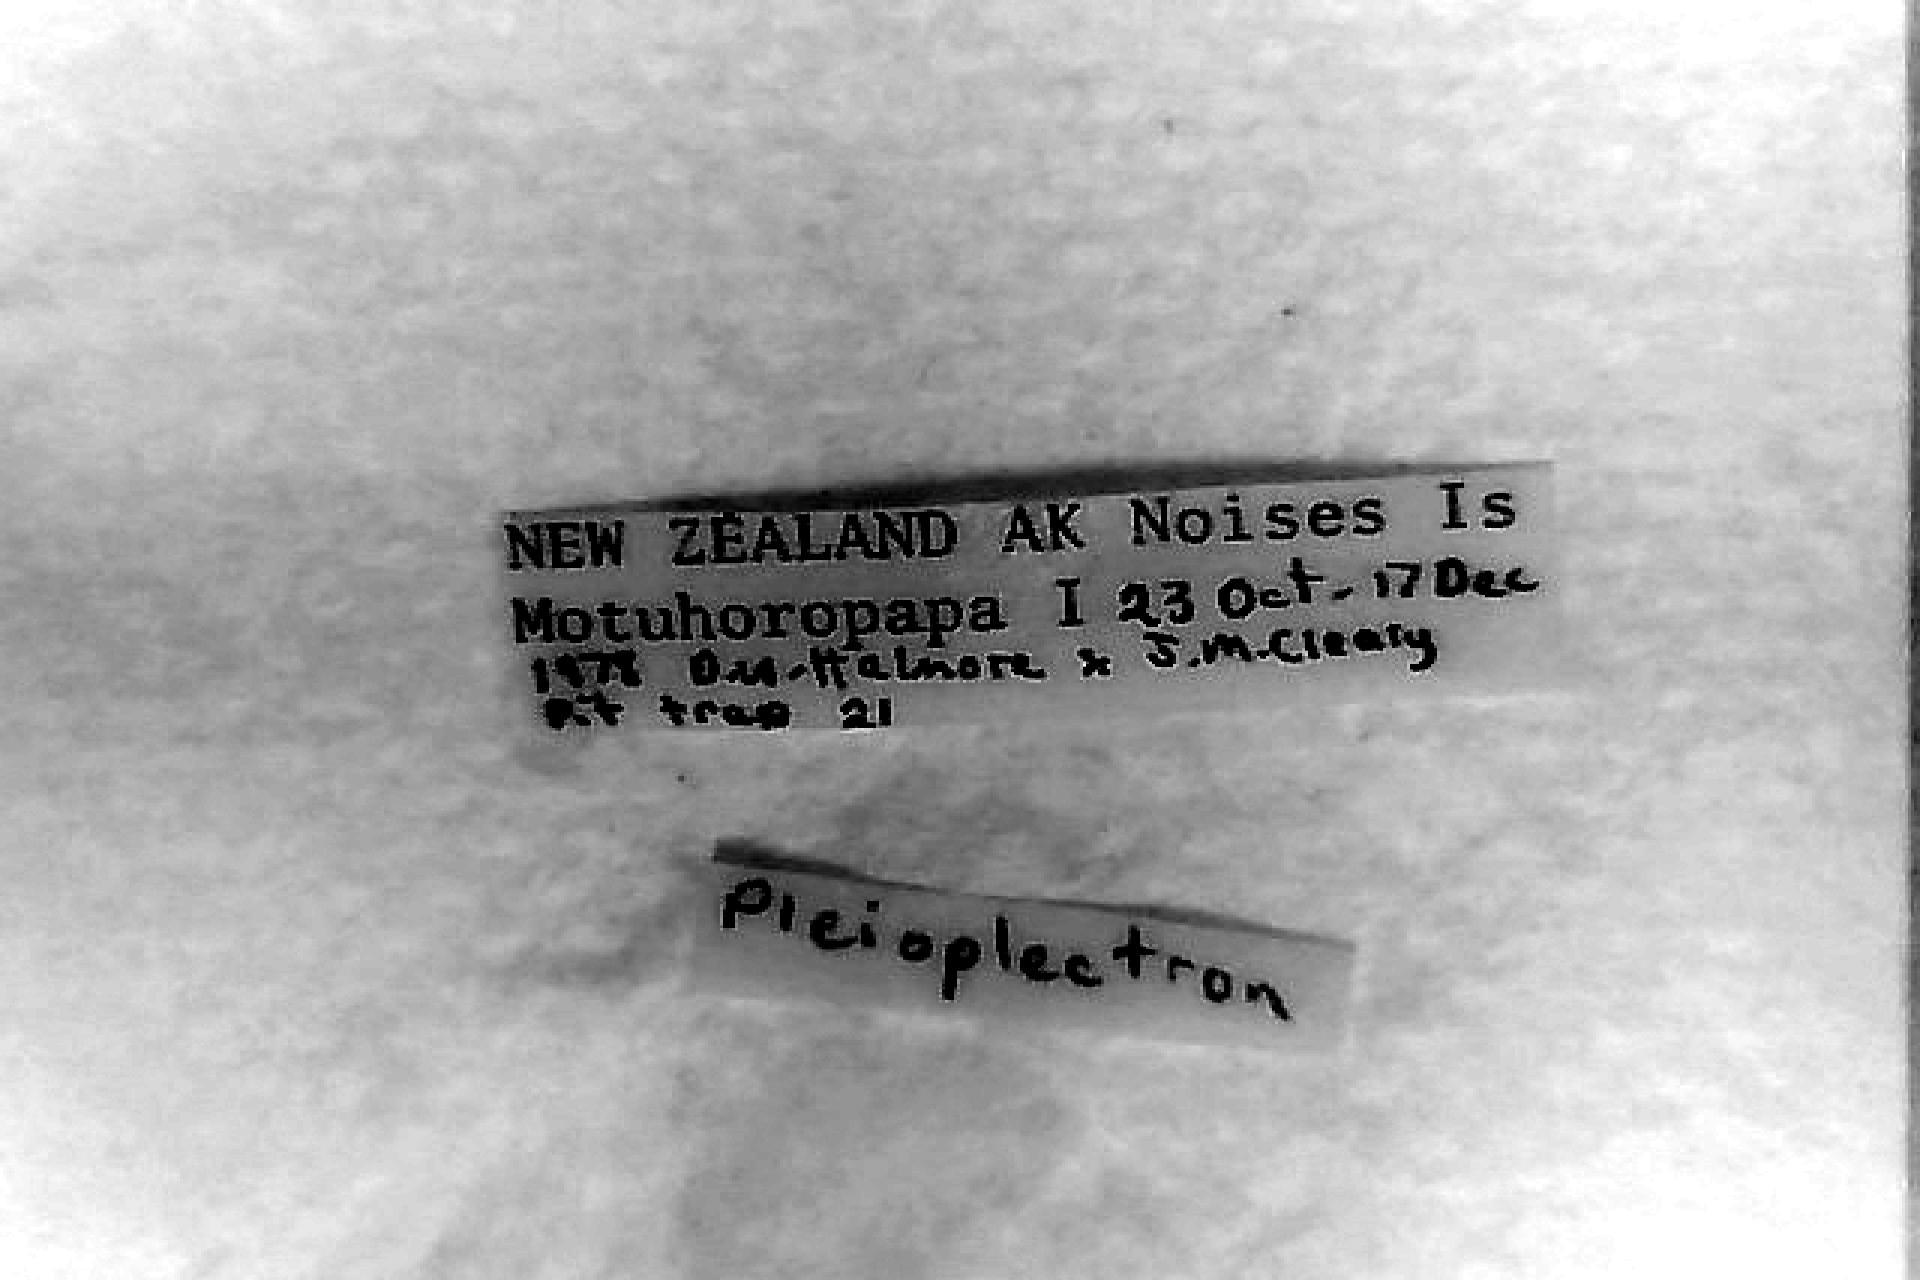hand_label: (705, 850, 1354, 1045)
mixed_label: (502, 468, 1552, 728)
